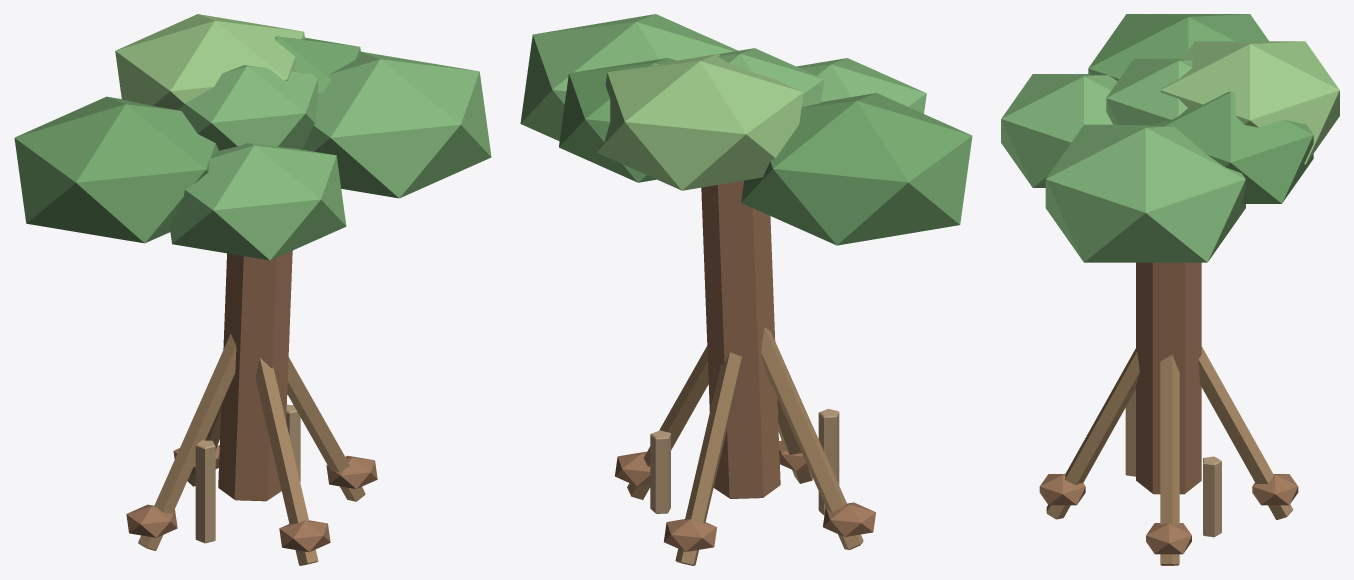
The model's file is mangrove.glb.
3 renders of one model, left to right at view 1: azimuth 30°, elevation 25°; view 2: azimuth 150°, elevation 25°; view 3: azimuth 270°, elevation 25°, orthographic. The views are drawn at different scales.
Parts seen in each view (by area): view 1: trunk.001; view 2: trunk.001; view 3: trunk.001.
Part boxes in pixels (box(x1,y1,x2,y2)): trunk.001: box(14, 14, 491, 565); trunk.001: box(520, 14, 972, 565); trunk.001: box(1001, 14, 1339, 565).
Bounding box in the file's own units: 2.59 × 2.72 × 1.75.
